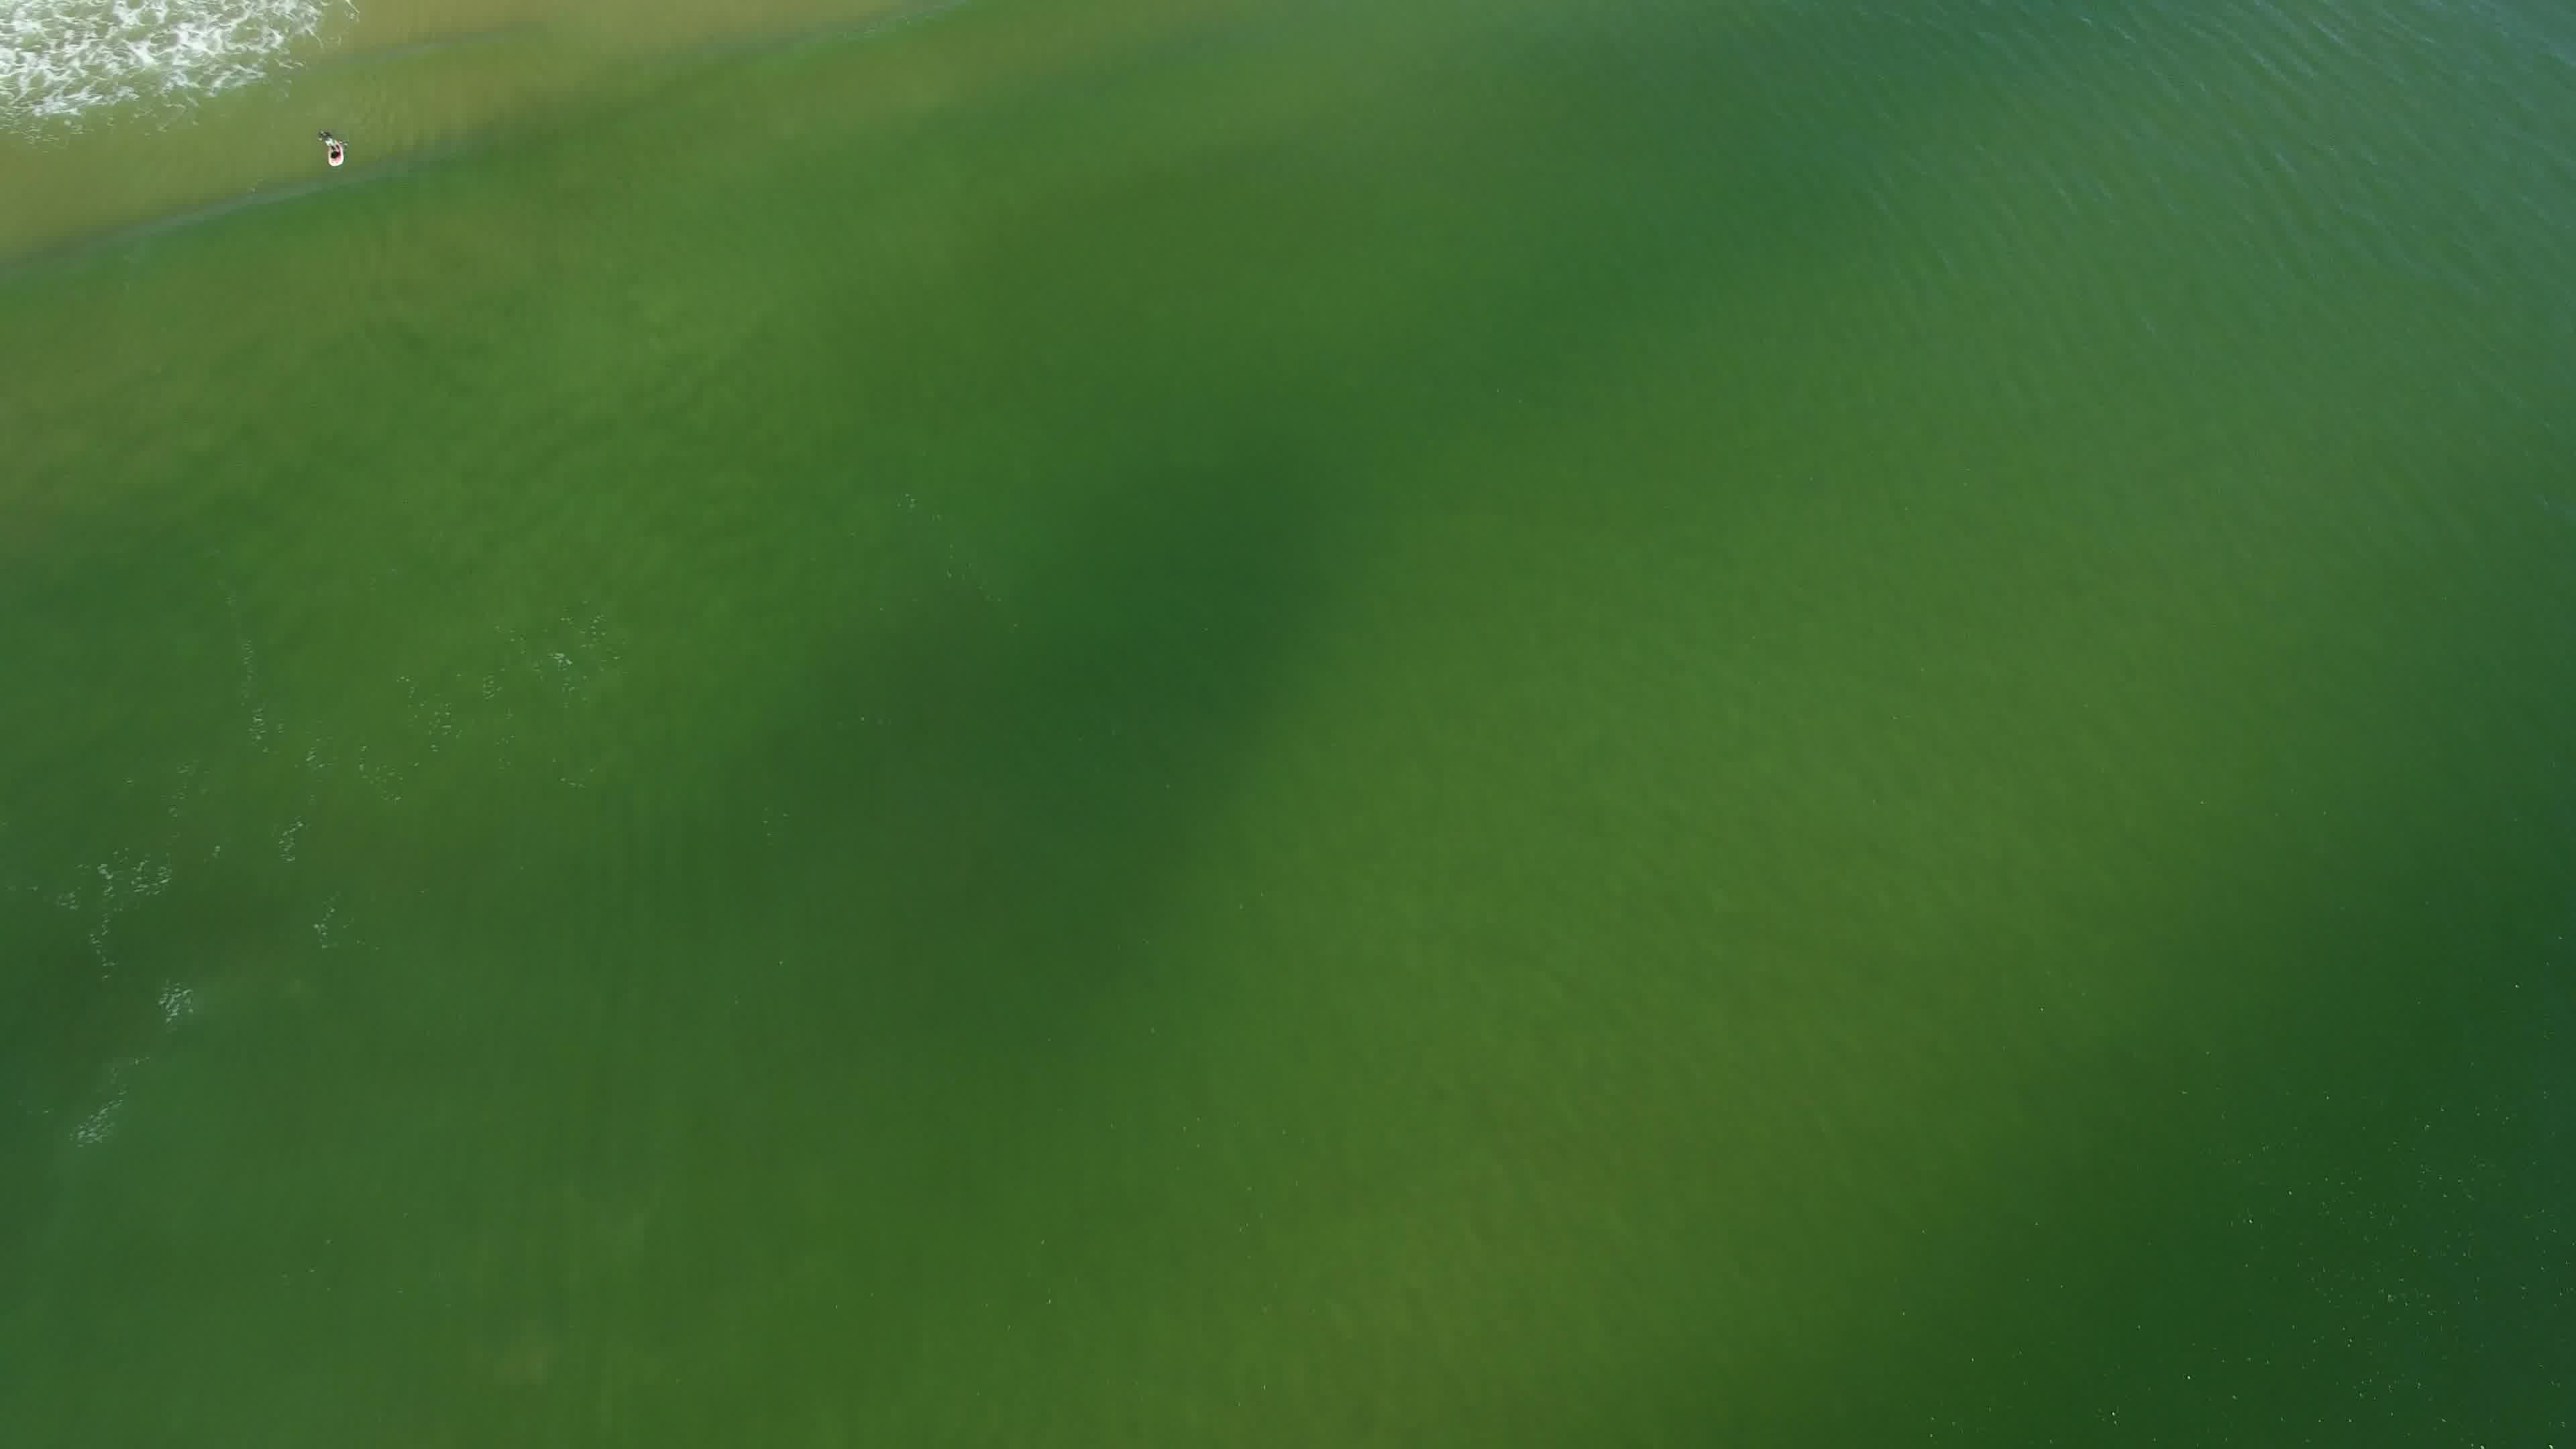surfer: (311, 126, 359, 175)
